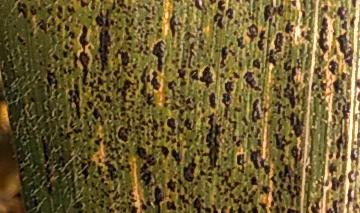tarspot: (201, 111, 226, 170), (316, 16, 331, 64), (215, 166, 242, 191), (97, 28, 112, 70), (220, 80, 235, 120), (285, 111, 306, 139), (120, 79, 139, 107), (334, 31, 355, 56), (152, 40, 167, 72), (262, 2, 286, 22), (242, 71, 263, 93), (44, 66, 59, 94), (71, 82, 82, 119), (289, 144, 304, 171), (182, 156, 196, 184), (272, 133, 292, 152), (250, 98, 265, 123), (78, 51, 89, 85), (199, 65, 215, 88), (38, 134, 51, 162), (113, 48, 132, 67), (168, 13, 183, 37), (190, 196, 211, 213), (248, 147, 262, 171), (102, 160, 118, 180), (1, 60, 12, 89), (330, 173, 345, 193), (282, 88, 296, 109), (153, 184, 163, 213), (338, 105, 351, 127), (78, 23, 88, 51), (334, 135, 344, 162), (140, 65, 148, 98), (150, 70, 162, 92), (285, 184, 297, 206), (99, 8, 112, 28), (191, 1, 208, 16), (165, 117, 177, 138), (272, 31, 284, 52), (257, 28, 267, 53), (91, 107, 104, 126), (165, 80, 176, 102), (235, 152, 246, 174), (116, 125, 130, 142), (212, 12, 225, 30), (246, 23, 259, 41), (156, 144, 170, 160), (336, 5, 350, 21), (15, 1, 28, 18), (346, 167, 359, 184), (266, 48, 277, 68), (227, 116, 238, 136), (187, 42, 195, 69), (170, 147, 182, 165), (219, 45, 228, 69), (332, 78, 344, 96), (349, 147, 360, 166), (140, 171, 153, 187), (258, 158, 271, 174), (327, 59, 339, 76), (87, 79, 98, 97), (316, 175, 325, 197), (177, 193, 191, 207), (135, 145, 147, 161), (145, 153, 158, 167), (326, 162, 339, 176), (284, 19, 296, 34), (271, 83, 283, 98), (166, 177, 177, 193), (182, 117, 193, 132), (207, 92, 216, 110), (36, 17, 46, 33), (236, 35, 246, 51), (315, 92, 327, 105), (146, 93, 157, 107), (282, 58, 293, 72), (313, 66, 324, 80), (189, 68, 199, 83), (281, 163, 291, 178), (275, 116, 283, 134), (70, 51, 78, 68), (273, 100, 282, 115), (290, 65, 297, 84), (175, 68, 186, 80), (138, 163, 150, 174), (165, 199, 176, 211), (251, 58, 262, 70), (108, 144, 121, 154), (94, 14, 104, 27), (183, 31, 196, 41), (344, 56, 354, 69), (349, 14, 357, 30), (269, 173, 278, 187), (30, 195, 41, 206), (215, 1, 226, 12), (50, 51, 60, 63), (71, 200, 86, 208), (99, 186, 109, 198), (259, 185, 271, 195), (257, 201, 267, 213), (312, 197, 322, 209), (64, 4, 77, 13), (224, 7, 233, 20), (253, 127, 262, 140), (241, 196, 254, 205), (319, 80, 328, 93), (81, 105, 89, 119), (285, 206, 301, 213), (42, 163, 52, 174), (108, 183, 119, 193), (121, 25, 131, 36), (248, 176, 259, 186), (248, 187, 258, 198), (355, 90, 360, 112), (45, 182, 54, 194), (115, 1, 127, 10), (240, 115, 249, 127), (340, 20, 349, 32), (125, 116, 132, 131), (331, 198, 338, 213), (346, 187, 353, 202), (77, 159, 87, 169), (339, 71, 349, 81), (79, 168, 88, 179), (11, 191, 22, 200), (112, 65, 121, 76), (48, 15, 56, 27), (63, 31, 75, 39), (120, 9, 132, 17), (127, 16, 135, 28), (274, 189, 282, 201), (295, 56, 303, 68), (151, 119, 158, 132), (14, 33, 24, 42), (22, 127, 31, 137), (43, 173, 53, 182), (64, 130, 73, 140), (111, 191, 120, 201), (94, 93, 103, 103), (104, 95, 114, 104), (320, 3, 329, 13), (231, 70, 240, 80), (282, 83, 291, 93), (28, 4, 36, 15), (144, 197, 152, 208), (142, 3, 150, 14), (149, 131, 157, 142), (183, 104, 194, 112), (77, 1, 89, 8), (71, 127, 83, 134), (255, 137, 262, 149), (246, 206, 258, 213), (44, 6, 53, 15), (124, 163, 133, 172), (85, 100, 94, 109), (96, 77, 105, 86), (236, 204, 245, 213), (56, 4, 64, 14), (128, 205, 138, 213), (139, 202, 147, 212), (95, 164, 103, 174), (102, 70, 112, 78), (210, 203, 218, 213), (285, 174, 293, 184), (310, 205, 320, 213), (69, 169, 75, 182), (93, 53, 100, 64), (176, 176, 183, 187), (299, 8, 306, 19), (327, 150, 334, 161), (310, 81, 317, 92), (52, 91, 60, 100), (45, 103, 53, 112), (55, 22, 63, 31), (62, 23, 70, 32), (66, 66, 75, 74), (22, 115, 28, 127), (97, 87, 106, 95), (125, 34, 134, 42), (125, 40, 134, 48), (135, 113, 144, 121), (204, 177, 213, 185), (219, 205, 228, 213), (278, 153, 286, 162), (278, 182, 286, 191), (354, 77, 360, 89), (90, 1, 97, 11), (53, 161, 60, 171), (128, 188, 135, 198), (170, 58, 180, 65), (232, 105, 242, 112), (235, 139, 242, 149), (214, 183, 221, 193), (85, 156, 91, 167), (237, 93, 243, 104), (242, 185, 248, 196), (52, 144, 60, 152), (94, 137, 102, 145), (176, 108, 184, 116), (179, 80, 187, 88), (184, 97, 192, 105), (198, 169, 206, 177), (176, 114, 184, 122), (228, 49, 236, 57), (248, 125, 256, 133), (40, 104, 47, 113), (54, 12, 63, 19), (112, 135, 119, 144), (111, 113, 118, 122), (136, 44, 143, 53), (114, 86, 121, 95), (285, 4, 292, 13), (157, 157, 164, 166), (286, 48, 293, 57), (325, 206, 334, 213), (353, 201, 360, 210), (149, 6, 155, 16), (144, 27, 154, 33), (295, 93, 300, 105), (304, 198, 310, 208), (324, 178, 330, 188), (332, 45, 338, 55), (36, 46, 43, 54), (6, 52, 13, 60), (33, 75, 41, 82), (19, 102, 27, 109), (46, 111, 53, 119), (61, 50, 68, 58), (80, 137, 88, 144), (56, 155, 64, 162), (112, 204, 120, 211), (107, 153, 115, 160), (105, 132, 112, 140), (108, 128, 116, 135), (115, 23, 123, 30), (195, 25, 203, 32), (130, 62, 138, 69), (196, 43, 204, 50), (162, 101, 169, 109), (182, 185, 189, 193), (218, 72, 226, 79), (289, 1, 297, 8), (255, 72, 262, 80), (230, 134, 237, 142), (206, 170, 214, 177), (222, 187, 229, 195), (232, 197, 240, 204), (279, 205, 286, 213), (274, 93, 282, 100), (287, 131, 294, 139), (349, 1, 357, 8), (332, 109, 340, 116), (330, 114, 337, 122), (25, 63, 31, 72), (27, 109, 33, 118), (68, 119, 74, 128), (71, 136, 77, 145), (143, 20, 152, 26), (143, 15, 152, 21), (115, 74, 124, 80), (144, 73, 150, 82), (175, 43, 181, 52), (188, 191, 194, 200), (299, 29, 305, 38), (193, 133, 199, 142), (200, 115, 206, 124), (223, 135, 229, 144), (273, 204, 279, 213), (286, 73, 292, 82), (340, 153, 346, 162), (345, 101, 351, 110), (281, 109, 285, 122), (109, 18, 114, 28), (195, 147, 200, 157), (303, 164, 308, 174), (337, 101, 342, 111), (27, 30, 34, 37), (8, 62, 15, 69), (62, 43, 69, 50), (66, 89, 73, 96), (62, 167, 69, 174), (71, 187, 78, 194), (120, 206, 127, 213), (103, 152, 110, 159), (119, 111, 126, 118), (123, 17, 130, 24), (136, 3, 143, 10), (125, 72, 132, 79), (195, 62, 202, 69), (243, 17, 250, 24), (203, 125, 210, 132), (24, 18, 32, 24), (56, 108, 62, 116), (6, 109, 12, 117), (67, 40, 75, 46), (80, 85, 86, 93), (56, 132, 64, 138), (58, 161, 66, 167), (18, 166, 26, 172), (90, 159, 96, 167), (96, 203, 104, 209), (117, 172, 123, 180), (122, 147, 130, 153), (118, 106, 126, 112), (90, 118, 96, 126), (91, 70, 97, 78), (110, 1, 116, 9), (114, 7, 120, 15), (143, 31, 149, 39), (125, 105, 133, 111), (168, 104, 174, 112), (195, 174, 201, 182), (301, 1, 307, 9), (220, 127, 226, 135), (228, 205, 234, 213), (266, 118, 272, 126), (61, 66, 66, 75), (36, 5, 42, 12), (2, 37, 8, 44), (37, 59, 43, 66), (45, 62, 51, 69), (29, 96, 35, 103), (13, 87, 20, 93), (32, 67, 38, 74), (20, 136, 27, 142), (34, 114, 41, 120), (44, 126, 50, 133), (20, 108, 26, 115), (50, 30, 57, 36), (57, 126, 63, 133), (25, 159, 31, 166), (77, 193, 84, 199), (91, 173, 98, 179), (114, 154, 121, 160), (110, 122, 116, 129), (87, 131, 93, 138), (84, 119, 91, 125), (95, 71, 102, 77), (144, 44, 150, 51), (157, 15, 164, 21), (141, 100, 147, 107), (139, 125, 146, 131), (141, 120, 147, 127), (183, 47, 189, 54), (162, 95, 169, 101), (173, 103, 180, 109), (144, 140, 151, 146), (160, 168, 166, 175), (170, 137, 176, 144), (198, 157, 204, 164), (200, 106, 206, 113), (232, 19, 239, 25), (223, 66, 230, 72), (227, 41, 234, 47), (237, 12, 243, 19), (249, 15, 255, 22), (270, 21, 276, 28), (246, 133, 253, 139), (223, 196, 229, 203), (228, 192, 235, 198), (267, 206, 273, 213), (296, 174, 302, 181), (296, 186, 303, 192), (338, 197, 344, 204), (329, 140, 335, 147), (16, 159, 24, 164), (89, 180, 94, 188), (90, 205, 95, 213), (97, 199, 105, 204), (128, 198, 136, 203), (158, 119, 163, 127), (182, 144, 190, 149), (237, 60, 242, 68), (222, 155, 227, 163), (269, 199, 274, 207), (307, 167, 312, 175), (293, 173, 297, 183), (331, 121, 336, 129), (20, 41, 26, 47), (6, 96, 12, 102), (31, 163, 37, 169), (92, 146, 98, 152), (75, 209, 84, 213), (108, 207, 114, 213), (103, 181, 109, 187), (138, 198, 144, 204), (119, 164, 125, 170), (105, 139, 111, 145), (101, 103, 107, 109), (88, 70, 92, 79), (115, 36, 121, 42), (126, 5, 132, 11), (136, 21, 142, 27), (157, 28, 163, 34), (208, 1, 217, 5), (121, 66, 127, 72), (133, 109, 139, 115), (133, 124, 139, 130), (146, 118, 152, 124), (181, 58, 187, 64), (208, 57, 214, 63), (211, 62, 217, 68), (157, 111, 163, 117), (232, 30, 238, 36), (244, 51, 250, 57), (227, 75, 233, 81), (226, 126, 232, 132), (241, 130, 247, 136), (199, 198, 205, 204), (275, 75, 281, 81), (278, 169, 282, 178), (356, 130, 360, 139), (12, 95, 17, 102), (40, 96, 45, 103), (16, 123, 23, 128), (86, 44, 91, 51), (85, 14, 92, 19), (58, 72, 63, 79), (57, 63, 62, 70), (61, 123, 68, 128), (86, 144, 91, 151), (83, 178, 88, 185), (69, 194, 76, 199), (98, 194, 105, 199), (99, 177, 104, 184), (126, 201, 133, 206), (87, 125, 92, 132), (105, 84, 110, 91), (90, 57, 95, 64), (131, 7, 138, 12), (141, 39, 148, 44), (111, 81, 116, 88), (131, 87, 138, 92), (164, 136, 169, 143), (176, 98, 181, 105), (190, 96, 195, 103), (167, 193, 172, 200), (175, 141, 180, 148), (187, 138, 194, 143), (197, 101, 202, 108), (241, 9, 246, 16), (279, 178, 286, 183), (287, 41, 292, 48), (352, 140, 357, 147), (315, 86, 320, 93), (320, 112, 325, 119), (270, 189, 274, 197), (11, 23, 16, 29), (20, 61, 25, 67), (6, 85, 12, 90), (43, 121, 49, 126), (67, 46, 72, 52), (74, 76, 79, 82), (30, 129, 36, 134), (32, 170, 38, 175), (88, 193, 94, 198), (69, 182, 75, 187), (90, 198, 95, 204), (104, 205, 109, 211), (120, 186, 126, 191), (101, 139, 106, 145), (119, 142, 125, 147), (94, 100, 100, 105), (116, 17, 122, 22), (142, 50, 148, 55), (158, 1, 164, 6), (173, 1, 183, 4), (155, 21, 160, 27), (198, 32, 203, 38), (128, 69, 134, 74), (127, 94, 133, 99), (180, 63, 185, 69), (199, 39, 205, 44), (174, 89, 180, 94), (177, 206, 183, 211), (150, 143, 155, 149), (191, 103, 197, 108), (195, 109, 200, 115), (191, 119, 197, 124), (208, 43, 213, 49), (247, 10, 252, 16), (255, 6, 260, 12), (288, 35, 293, 41), (259, 96, 265, 101), (199, 147, 204, 153), (212, 193, 217, 199), (147, 112, 152, 118), (275, 165, 281, 170), (271, 109, 276, 115), (285, 102, 290, 108), (295, 109, 301, 114), (317, 151, 322, 157), (331, 31, 336, 37), (139, 33, 143, 40), (181, 97, 185, 104), (285, 34, 289, 41), (282, 51, 286, 58), (243, 1, 252, 4), (59, 115, 64, 120), (46, 94, 51, 99), (45, 99, 50, 104), (7, 103, 12, 108), (29, 123, 34, 128), (79, 148, 84, 153), (77, 153, 82, 158), (93, 186, 98, 191), (120, 191, 125, 196), (104, 173, 109, 178), (97, 158, 102, 163), (95, 153, 100, 158), (102, 133, 107, 138), (103, 148, 108, 153), (97, 105, 102, 110), (94, 65, 99, 70), (131, 25, 136, 30), (189, 3, 194, 8), (131, 91, 136, 96), (160, 127, 165, 132), (178, 93, 183, 98), (192, 151, 197, 156), (196, 193, 201, 198), (205, 48, 210, 53), (213, 48, 218, 53), (124, 154, 130, 158), (119, 118, 125, 122), (107, 113, 111, 119), (134, 43, 138, 49), (108, 78, 114, 82), (141, 131, 145, 137), (136, 136, 142, 140), (136, 140, 142, 144), (145, 131, 149, 137), (259, 190, 263, 196), (270, 99, 274, 105), (298, 47, 302, 53), (50, 1, 57, 4), (41, 80, 46, 84), (124, 195, 129, 199), (116, 161, 121, 165), (123, 158, 128, 162), (105, 120, 110, 124), (136, 28, 140, 33), (137, 109, 142, 113), (170, 41, 174, 46), (167, 67, 171, 72), (197, 88, 201, 93), (134, 129, 138, 134), (158, 136, 162, 141), (161, 134, 166, 138), (190, 209, 195, 213), (270, 156, 274, 161), (268, 139, 273, 143), (49, 36, 54, 40), (70, 145, 74, 150), (68, 1, 74, 4), (18, 93, 22, 97), (234, 1, 242, 3), (166, 163, 170, 167), (272, 172, 276, 176), (114, 19, 117, 24), (127, 88, 130, 93), (279, 56, 282, 61), (97, 1, 104, 3), (153, 1, 160, 2)
